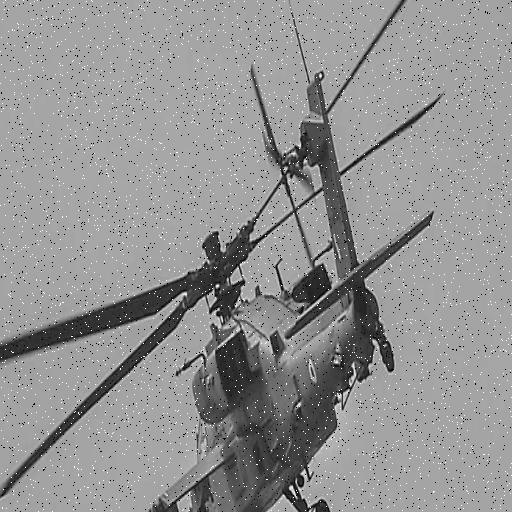helicopter: (1, 9, 447, 512)
